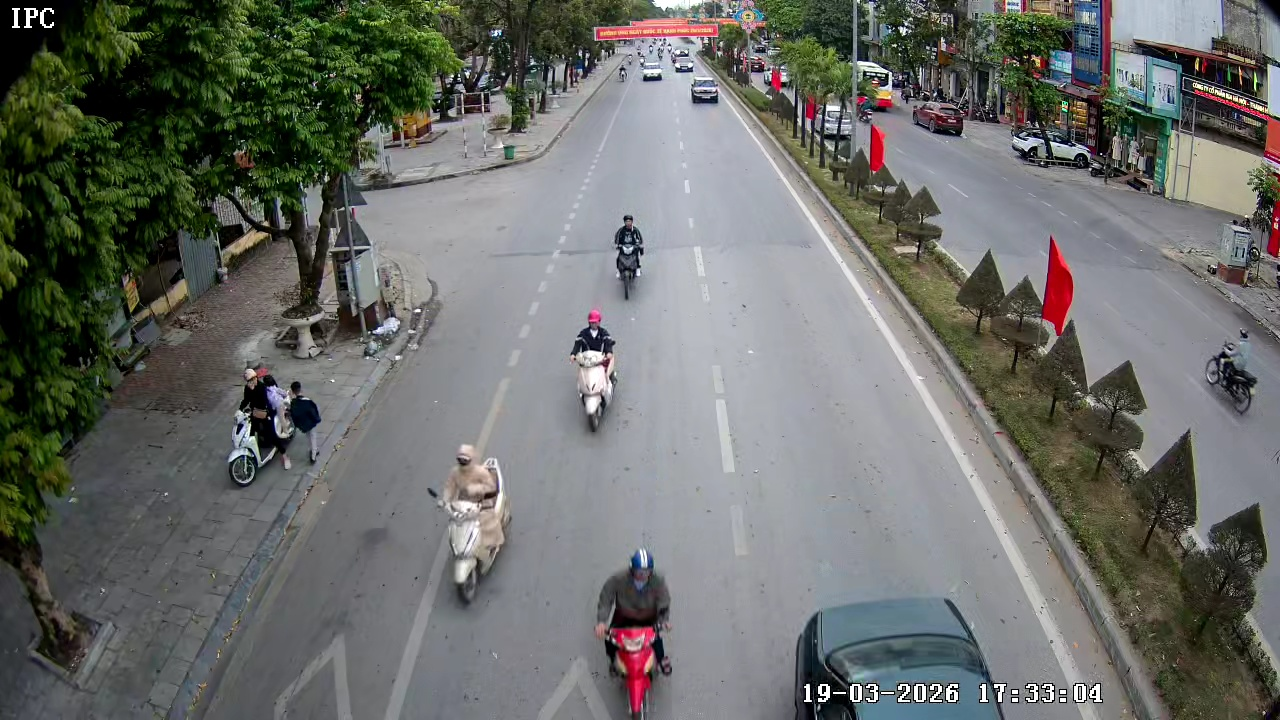car: (690, 72, 722, 106), (640, 60, 665, 84), (674, 56, 695, 74)
motorbike: (222, 358, 335, 486), (593, 548, 676, 719), (429, 443, 512, 605), (568, 308, 621, 433), (611, 213, 647, 300), (617, 64, 629, 82)
